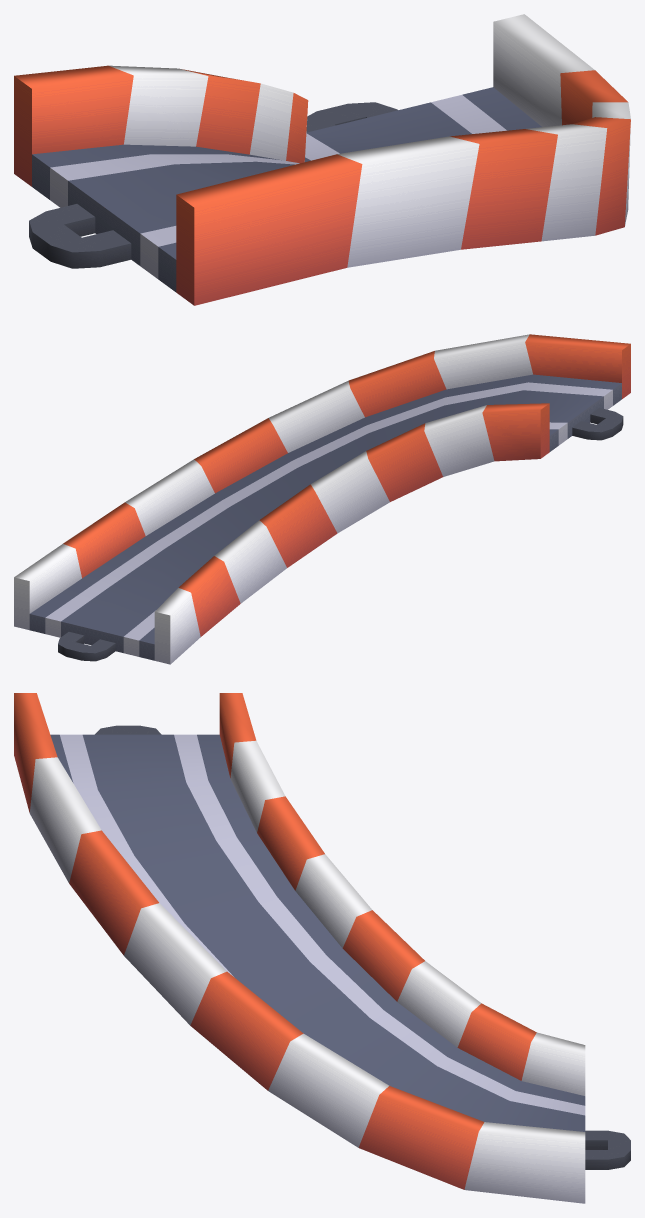
File: track-road-narrow-corner-small-ramp.glb
The picture shows the model from 3 angles, top to bottom: view 1: azimuth 30°, elevation 25°; view 2: azimuth 150°, elevation 25°; view 3: azimuth 270°, elevation 25°; orthographic projection. The views are drawn at different scales.
Parts seen in each view (by area): view 1: track-road-narrow-corner-small-ramp; view 2: track-road-narrow-corner-small-ramp; view 3: track-road-narrow-corner-small-ramp.
Part boxes in pixels (x1,y1,x2,y2): track-road-narrow-corner-small-ramp: (14, 14, 630, 305); track-road-narrow-corner-small-ramp: (14, 334, 630, 664); track-road-narrow-corner-small-ramp: (14, 693, 630, 1203).
Size of the model in its own units: 8.1 by 3.9 by 8.1.
Materials: 1 (1 with a texture image).
